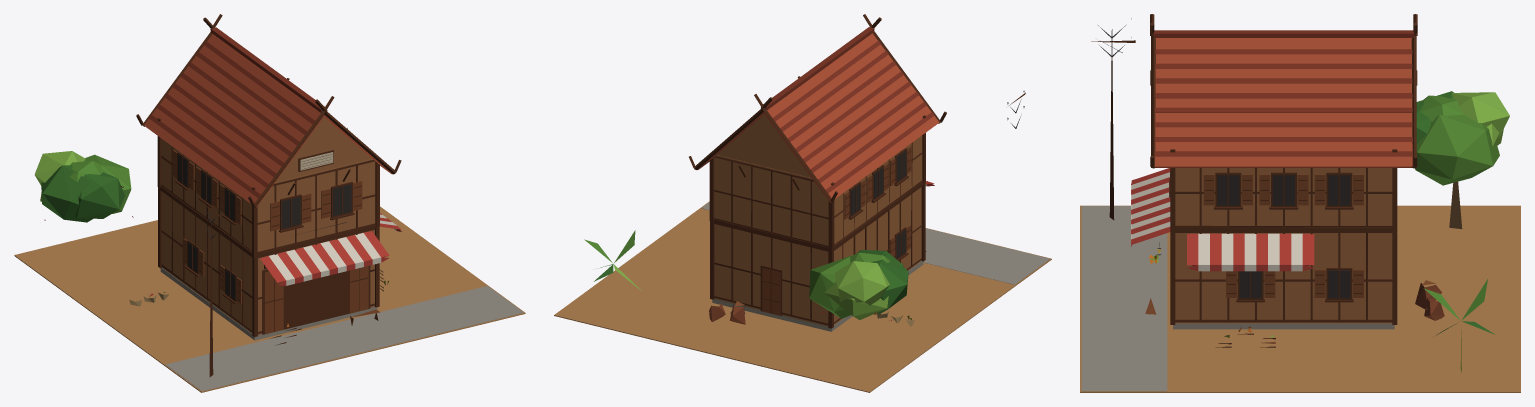
The model's file is shop_1.glb.
The picture shows the model from 3 angles, left to right: view 1: azimuth 30°, elevation 25°; view 2: azimuth 150°, elevation 25°; view 3: azimuth 270°, elevation 25°; orthographic projection. The views are drawn at different scales.
Parts seen in each view (by area): view 1: body, windows; view 2: body, windows; view 3: body, windows.
Part boxes in pixels (x1,y1,x2,y2): body: [14, 14, 525, 392]; windows: [178, 154, 351, 299]; body: [554, 14, 1051, 392]; windows: [851, 151, 906, 258]; body: [1080, 14, 1520, 392]; windows: [1157, 175, 1350, 298].
Bounding box in the file's own units: 16.15 × 11.05 × 15.9.
